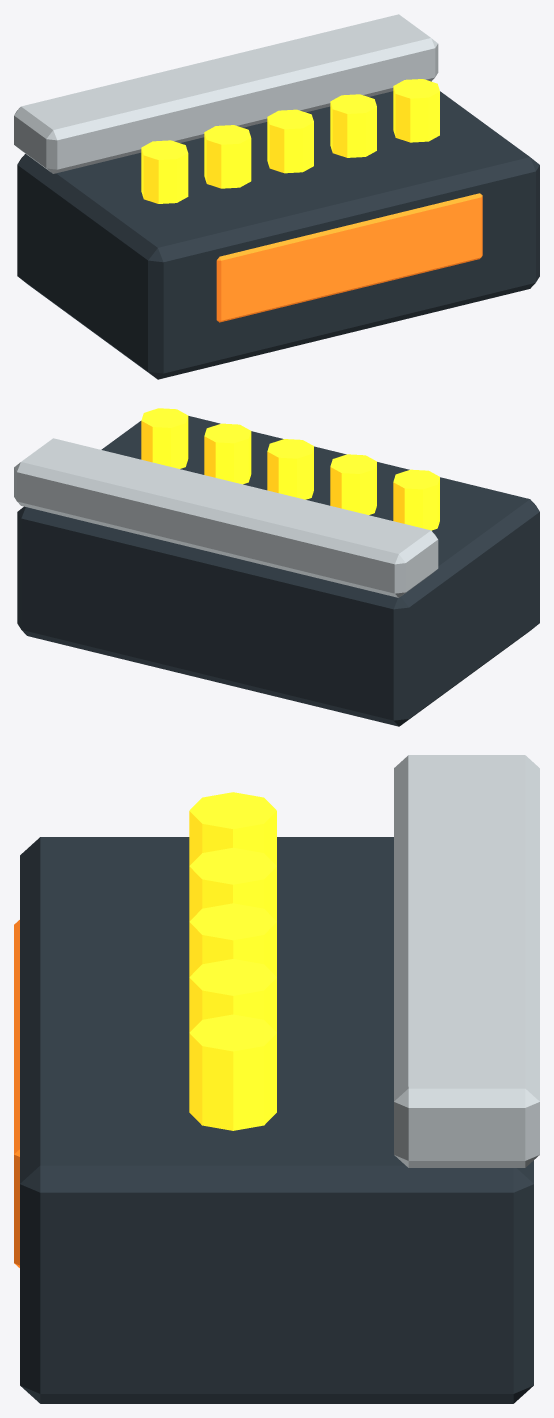
Rendered from SM_TS_AmmoPack.fbx.
3 views of the same model, one above another, from view 1: azimuth 30°, elevation 25°; view 2: azimuth 150°, elevation 25°; view 3: azimuth 270°, elevation 25° (orthographic). The views are drawn at different scales.
Parts seen in each view (by area): view 1: SM_TS_AmmoPack; view 2: SM_TS_AmmoPack; view 3: SM_TS_AmmoPack.
Part boxes in pixels (x1,y1,x2,y2): SM_TS_AmmoPack: (14, 14, 539, 379); SM_TS_AmmoPack: (14, 408, 539, 726); SM_TS_AmmoPack: (14, 755, 539, 1403).
Bounding box in the file's own units: 28 × 18 × 12.
